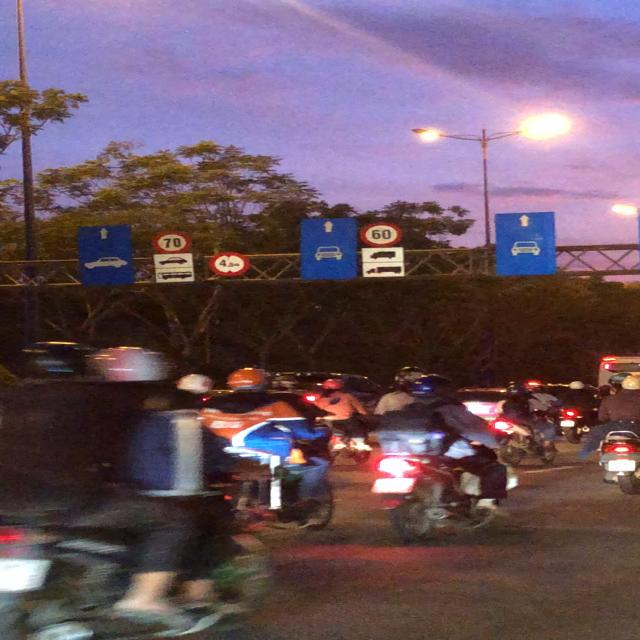Bien bao han che chieu cao: (210, 251, 254, 277)
Bien bao toc do toi da cho phep: (362, 221, 406, 246), (153, 232, 198, 252)
